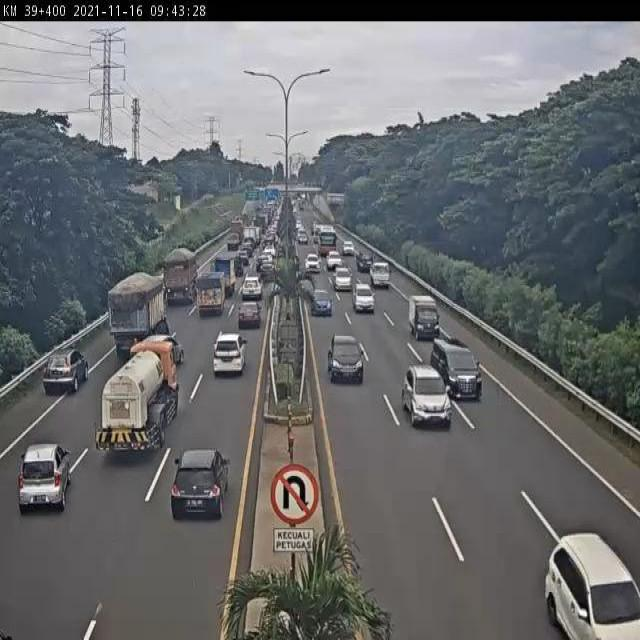big bus: (321, 227, 333, 253)
car: (546, 528, 640, 640), (170, 444, 231, 527), (16, 431, 73, 513), (37, 334, 92, 402), (406, 360, 444, 424), (443, 345, 486, 396), (327, 335, 364, 384), (211, 332, 243, 385), (238, 303, 260, 332), (239, 276, 260, 300), (369, 260, 387, 283), (355, 282, 371, 306), (314, 287, 331, 309), (354, 247, 370, 269), (327, 248, 341, 268), (335, 269, 349, 288), (262, 259, 273, 281), (342, 241, 355, 259), (307, 253, 319, 271)
small truck: (408, 294, 442, 342), (193, 270, 221, 322), (208, 259, 234, 300)
truck-m-: (93, 331, 183, 458), (109, 271, 172, 360), (160, 250, 201, 310)
